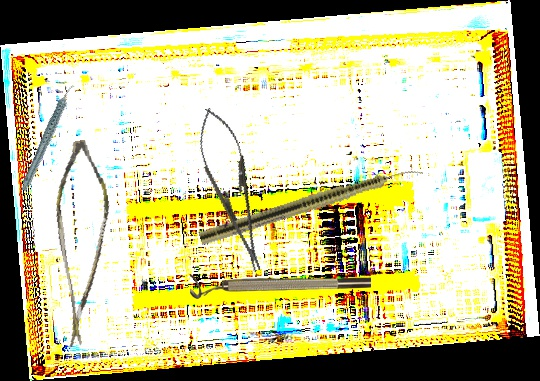Fixation Ring: (190, 274, 371, 299)
Handpiece: (197, 159, 425, 249), (1, 83, 97, 193)
Micro Scissor: (34, 137, 133, 349)
Needle Holder: (187, 102, 277, 278)
